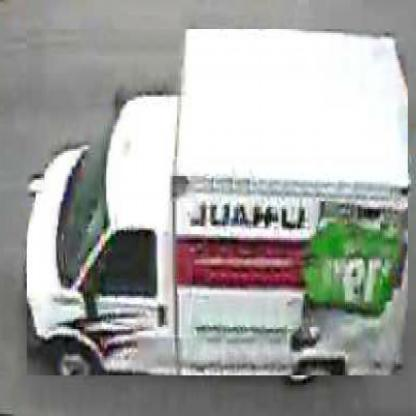truck: (27, 30, 409, 378)
